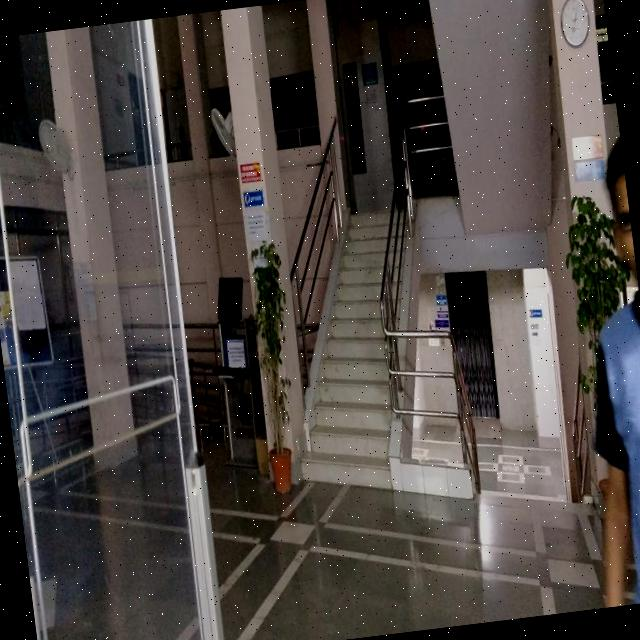stairs: (270, 201, 440, 500)
